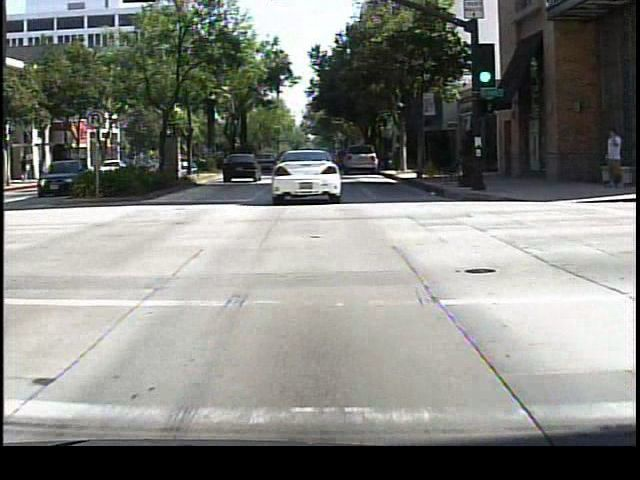person: (600, 124, 623, 194), (18, 152, 35, 186)
